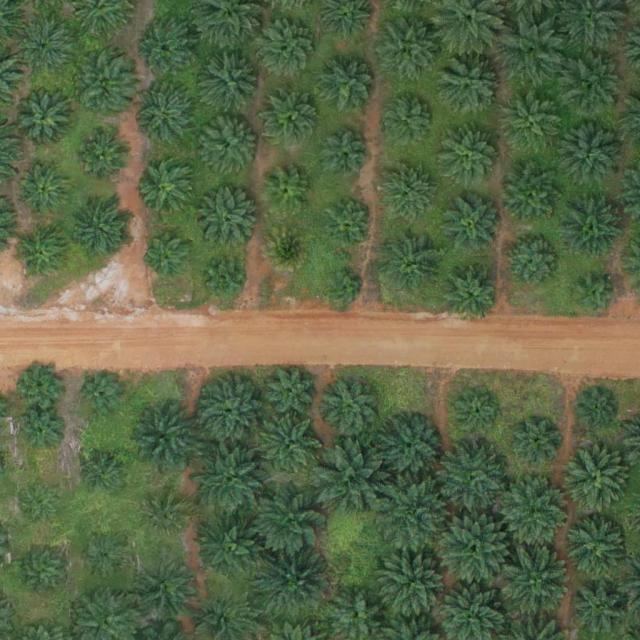Healthy: (125, 401, 203, 480), (192, 439, 270, 518), (251, 482, 329, 561), (312, 441, 390, 520), (376, 477, 454, 556), (498, 544, 576, 623), (499, 14, 569, 85), (380, 551, 450, 622), (436, 440, 506, 511), (439, 513, 509, 584), (500, 477, 570, 548), (197, 515, 267, 585), (259, 548, 329, 618), (502, 164, 565, 227), (439, 54, 502, 117), (440, 262, 503, 325), (72, 199, 135, 262), (565, 446, 628, 509), (565, 55, 627, 118), (561, 123, 623, 186), (562, 199, 624, 262), (503, 91, 565, 154), (439, 127, 501, 190), (379, 19, 441, 82), (74, 61, 137, 123), (200, 115, 263, 177), (198, 378, 260, 441), (379, 417, 441, 480), (565, 518, 627, 581), (569, 578, 632, 640), (382, 231, 444, 293), (257, 17, 319, 79), (198, 189, 260, 251), (260, 414, 322, 476), (506, 235, 561, 290), (380, 92, 435, 147), (265, 92, 320, 147), (15, 19, 70, 74), (16, 92, 71, 147), (143, 23, 198, 78), (204, 54, 259, 109), (80, 130, 135, 185), (18, 162, 73, 217), (16, 225, 71, 280), (140, 560, 195, 615), (263, 364, 318, 419), (322, 381, 377, 436), (447, 198, 501, 253), (382, 162, 436, 217), (321, 60, 375, 115), (138, 89, 192, 144), (142, 163, 196, 218), (326, 200, 373, 247)
Small: (18, 546, 73, 601), (454, 391, 501, 439), (202, 256, 249, 304), (265, 170, 312, 217), (321, 132, 368, 179), (144, 493, 191, 540), (515, 419, 562, 466), (572, 272, 619, 319), (146, 231, 193, 278), (14, 362, 61, 409), (17, 411, 64, 458), (78, 372, 125, 419), (80, 453, 127, 500), (84, 534, 131, 581), (327, 270, 366, 310), (21, 485, 60, 525), (578, 390, 617, 429)
Yellow: (266, 225, 313, 273)
